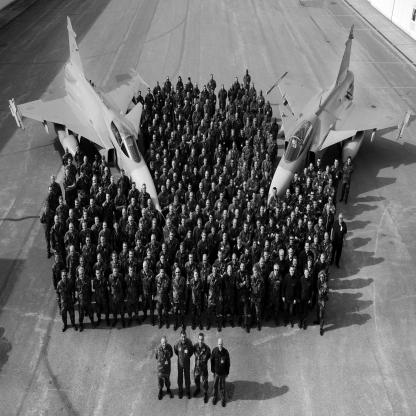JAS39: (8, 16, 168, 223), (267, 25, 413, 210)
